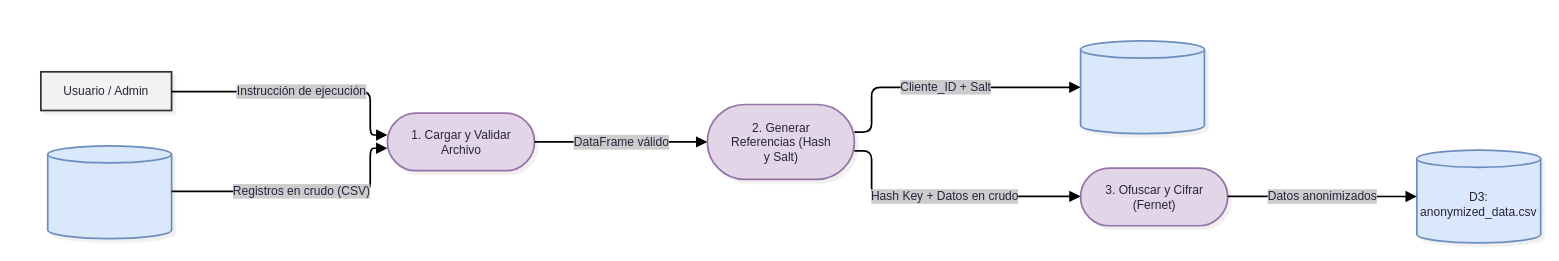
Some shapes in this 1559 by 261 pixel diagram are drawn without their labels. The shapes that lost their labels are listed below. From the top down, each one's centre as x and y in pixels, then its label:
At pixel 1143 89: "D2: reference_data.csv".
At pixel 110 193: "D1: db_clientes.csv".
